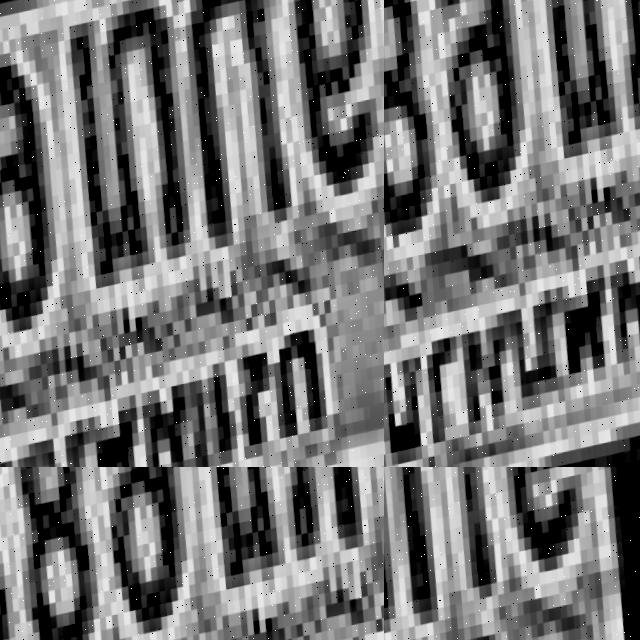license-plate: (0, 0, 384, 467), (384, 0, 640, 467), (0, 467, 384, 640), (384, 467, 640, 640)
